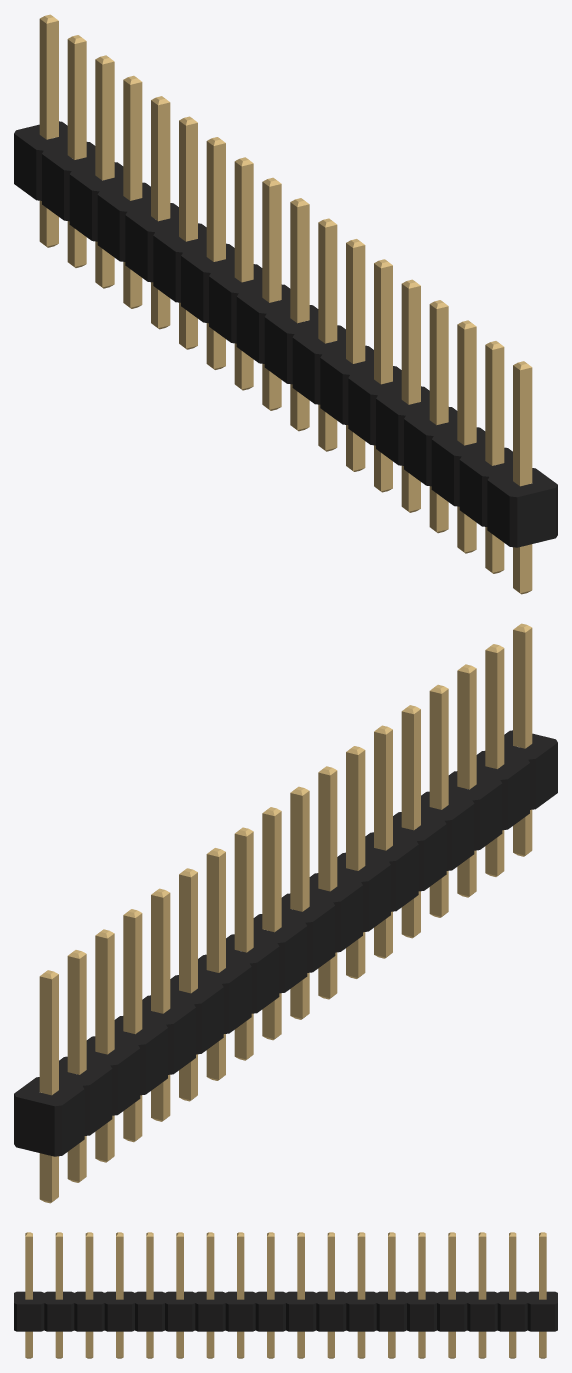
Rendered from kc-pinheader_1x18_p2.54mm_vertical.glb.
The picture shows the model from 3 angles, top to bottom: view 1: azimuth 30°, elevation 25°; view 2: azimuth 150°, elevation 25°; view 3: azimuth 270°, elevation 25°; orthographic projection. The views are drawn at different scales.
Visible parts, largest first — view 1: 0.75_0.5_0.25_0.9, 0_0_0_0; view 2: 0.75_0.5_0.25_0.9, 0_0_0_0; view 3: 0_0_0_0, 0.75_0.5_0.25_0.9.
Part boxes in pixels (box(x1,y1,x2,y2)): 0.75_0.5_0.25_0.9: box(39, 14, 532, 594); 0_0_0_0: box(14, 121, 557, 547); 0.75_0.5_0.25_0.9: box(39, 623, 532, 1203); 0_0_0_0: box(14, 730, 557, 1156); 0_0_0_0: box(14, 1291, 557, 1331); 0.75_0.5_0.25_0.9: box(25, 1232, 546, 1358).
Bounding box in the file's own units: 0.2539 × 1.15 × 4.57.
